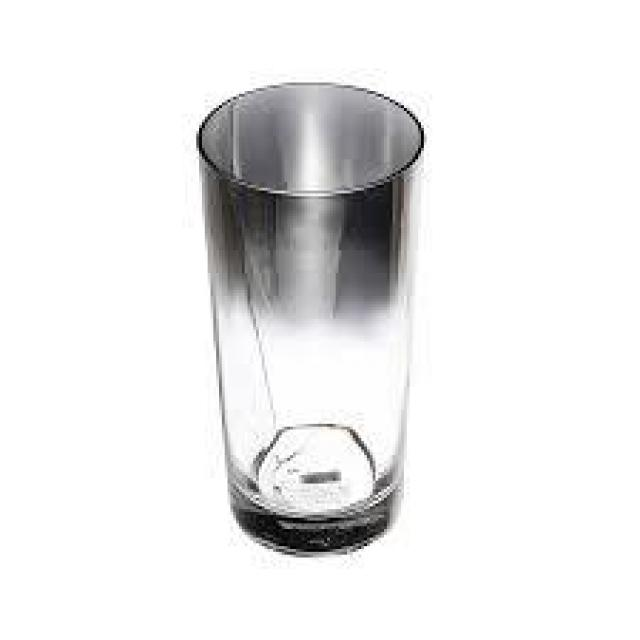non-organic waste: (192, 77, 428, 557)
